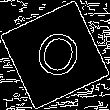O_S: (26, 23, 84, 87)
